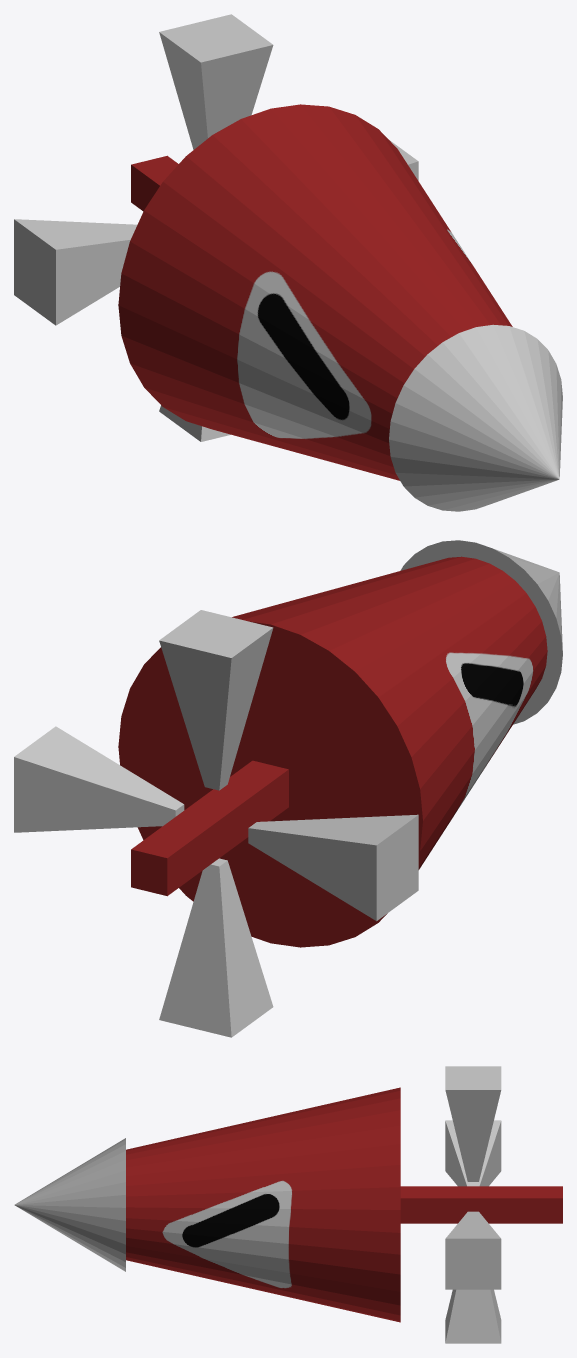
The model's file is rusher.gltf.
3 renders of one model, top to bottom at view 1: azimuth 30°, elevation 25°; view 2: azimuth 150°, elevation 25°; view 3: azimuth 270°, elevation 25°, orthographic. The views are drawn at different scales.
Parts seen in each view (by area): view 1: 円柱, 立方体.002; view 2: 円柱, 立方体.002; view 3: 円柱, 立方体.002.
Boxes of the visible parts, x1=… form: 円柱: x1=118, y1=104, x2=562, y2=511; 立方体.002: x1=14, y1=14, x2=418, y2=441; 円柱: x1=118, y1=540, x2=562, y2=947; 立方体.002: x1=14, y1=610, x2=418, y2=1037; 円柱: x1=14, y1=1087, x2=562, y2=1322; 立方体.002: x1=445, y1=1066, x2=501, y2=1343.
Bounding box in the file's own units: 1 × 1 × 1.96.
